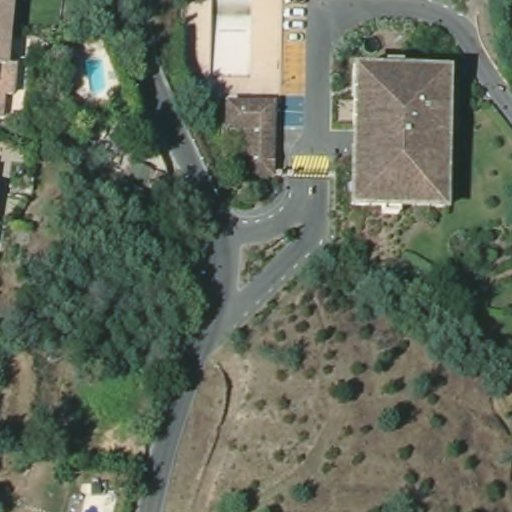pool: (83, 57, 109, 95)
